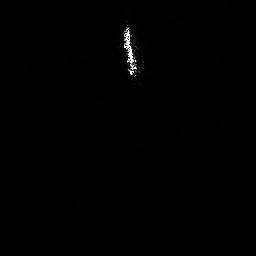ship: (119, 22, 145, 80)
